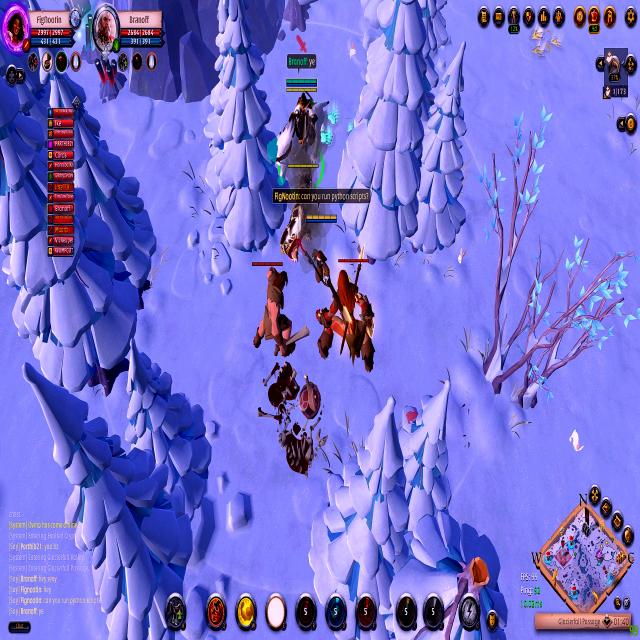ore: (316, 248, 380, 391), (244, 251, 305, 385)
player: (78, 8, 112, 74), (91, 51, 130, 106)
red: (266, 74, 337, 196), (302, 209, 340, 309)
